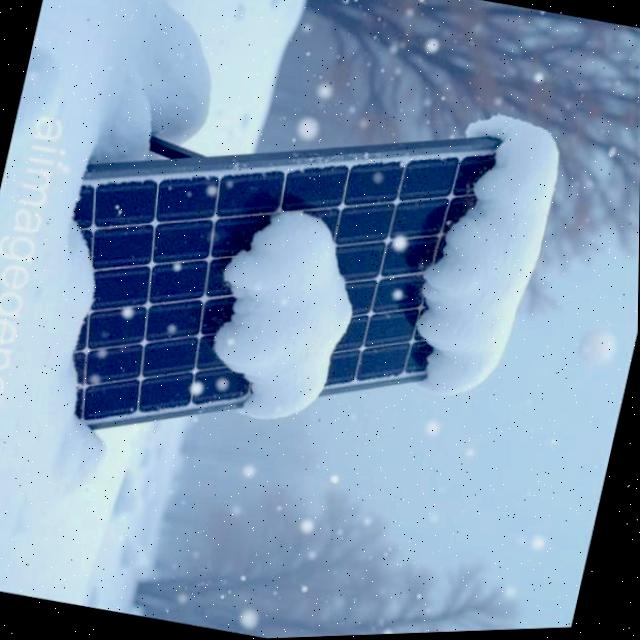Anomaly Solar Panel: (37, 124, 576, 428)
Snow: (390, 110, 582, 410), (183, 193, 385, 435), (59, 182, 110, 428)
